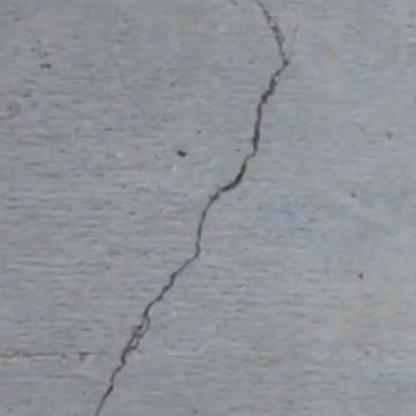Cracks: (84, 0, 301, 416)
